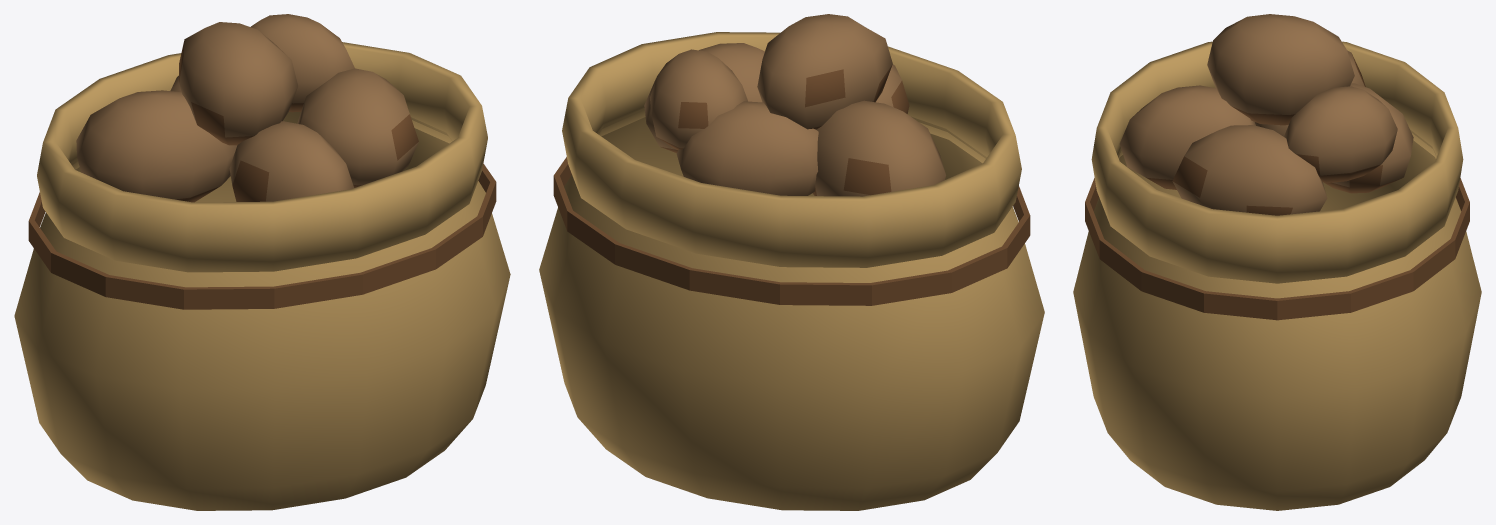
The model's file is cachelos_storage.glb.
The picture shows the model from 3 angles, left to right: view 1: azimuth 30°, elevation 25°; view 2: azimuth 150°, elevation 25°; view 3: azimuth 270°, elevation 25°; orthographic projection. The views are drawn at different scales.
Visible parts, largest first — view 1: sack, potatoes; view 2: sack, potatoes; view 3: sack, potatoes.
Boxes of the visible parts, bbox=[...] form: sack: bbox=[14, 42, 510, 510]; potatoes: bbox=[76, 14, 418, 202]; sack: bbox=[539, 32, 1044, 510]; potatoes: bbox=[644, 14, 945, 196]; sack: bbox=[1073, 41, 1481, 510]; potatoes: bbox=[1119, 14, 1413, 215].
Size of the model in its own units: 0.56 by 0.4916 by 0.46.
